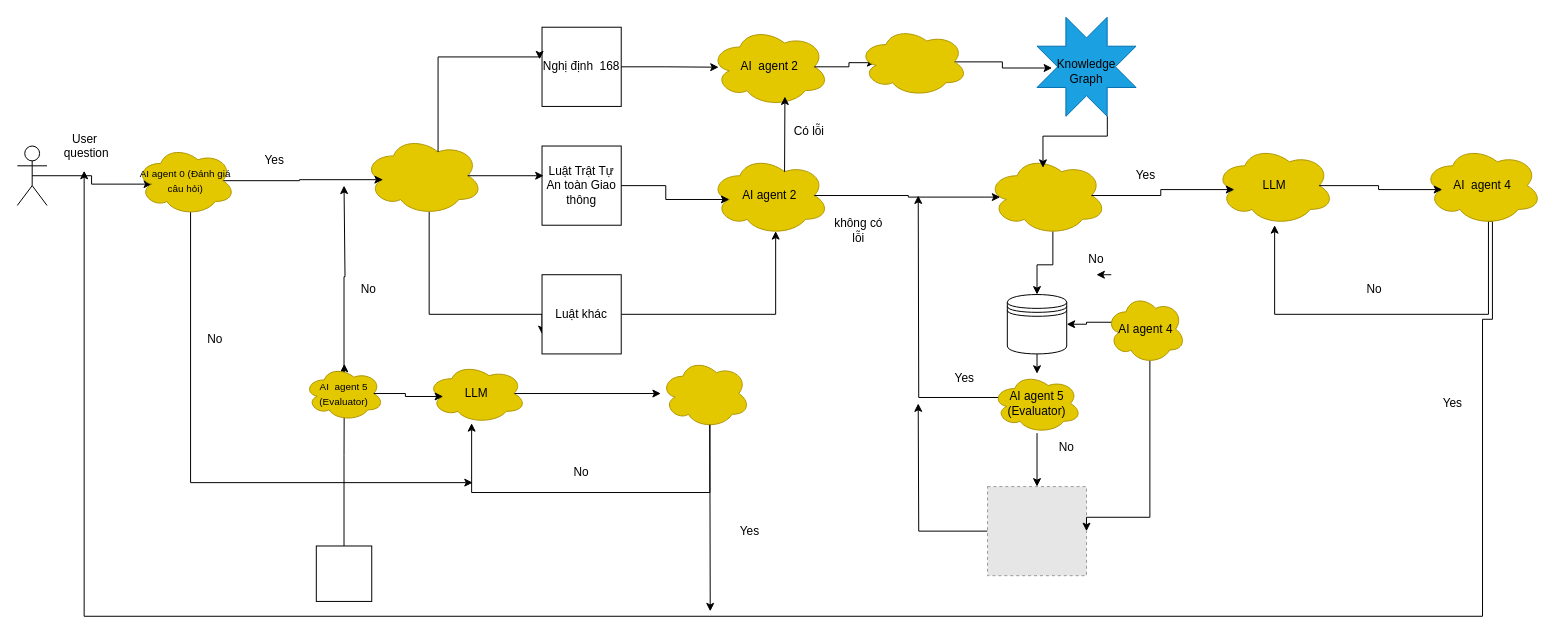
Some shapes in this 1559 by 642 pixel diagram are drawn without their labels. Grey dashed boxes stand in for pictures. The shapes that lost their labels are listed below. From the top down, each one's centre as x and y in pixels, then its label:
pixel 913 61: AI agent 3
pixel 31 175: Actor
pixel 423 175: AI agent 1
pixel 1046 195: AI agent 5 (Evaluator )
pixel 1036 324: Corpus
pixel 705 393: AI agent 6
pixel 343 573: Chat History
